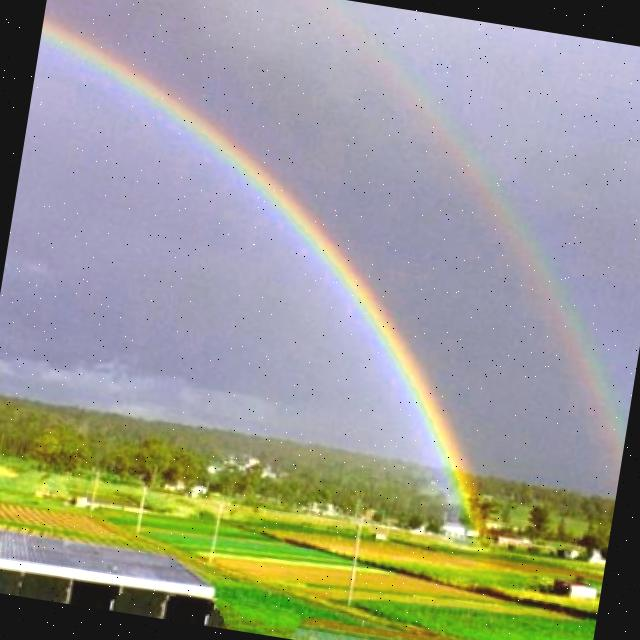Ns: (1, 1, 640, 472)
